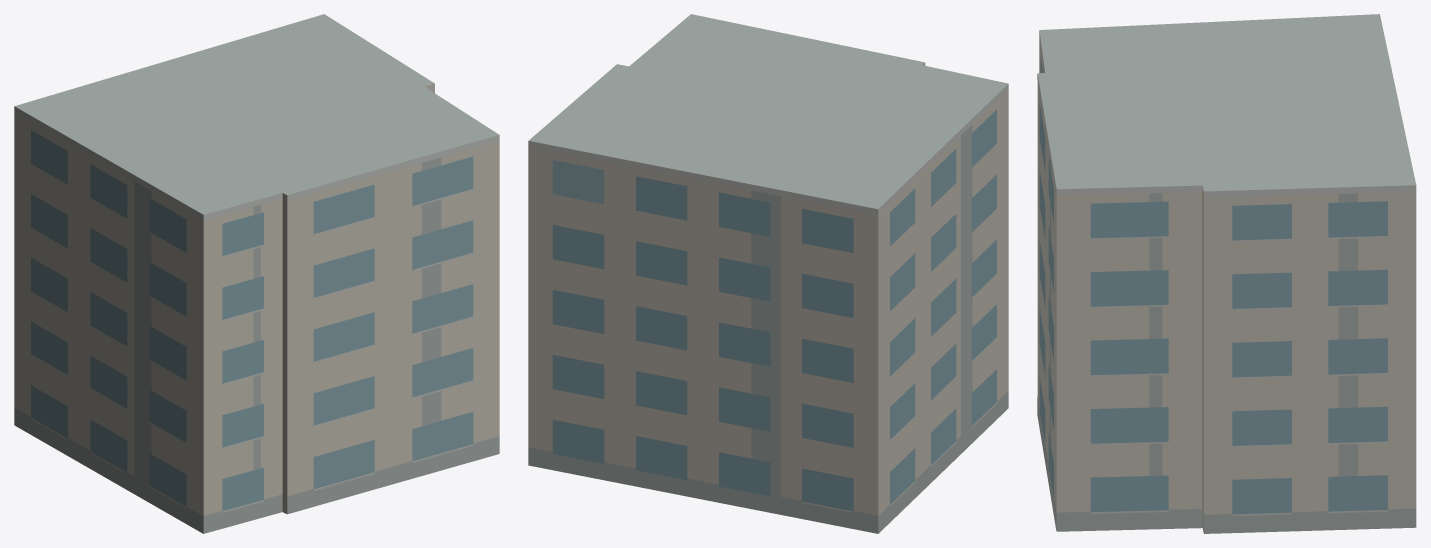
File: survey-upis-32972146.glb
The picture shows the model from 3 angles, left to right: view 1: azimuth 30°, elevation 25°; view 2: azimuth 150°, elevation 25°; view 3: azimuth 270°, elevation 25°; orthographic projection. The views are drawn at different scales.
Parts seen in each view (by area): view 1: survey-upis-32972146.tmp; view 2: survey-upis-32972146.tmp; view 3: survey-upis-32972146.tmp.
Part boxes in pixels (x1,y1,x2,y2): survey-upis-32972146.tmp: (14,14,499,533); survey-upis-32972146.tmp: (528,14,1008,533); survey-upis-32972146.tmp: (1037,14,1416,533).
Bounding box in the file's own units: 14.56 × 13.1 × 13.14.
